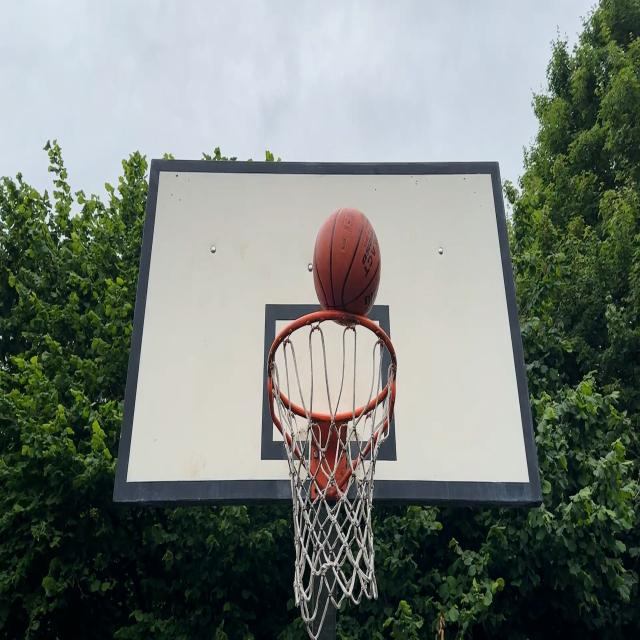rebound_hit: (312, 205, 382, 326)
